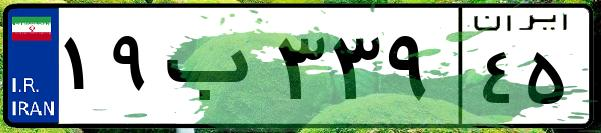1: (57, 26, 110, 100)
3: (270, 28, 330, 110), (330, 28, 385, 110)
4: (475, 38, 525, 113)
5: (525, 38, 570, 115)
9: (385, 28, 445, 110), (110, 28, 158, 98)
ب: (158, 20, 270, 120)
